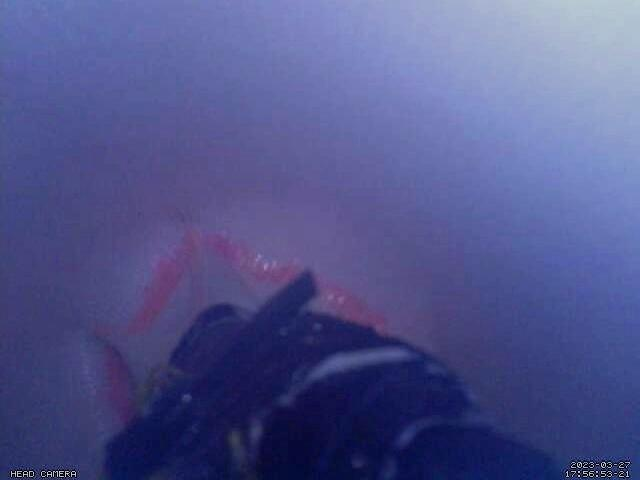head: (90, 226, 388, 427)
